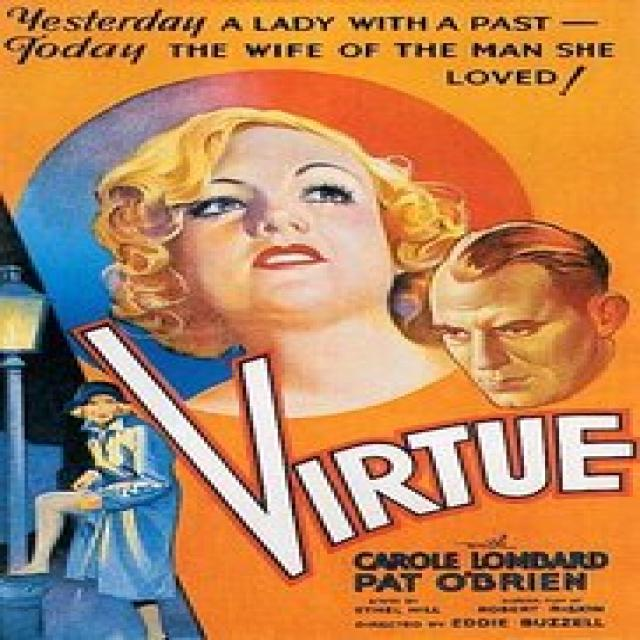movie-judul: (77, 321, 640, 590)
picture: (16, 72, 628, 419), (0, 195, 207, 639)
